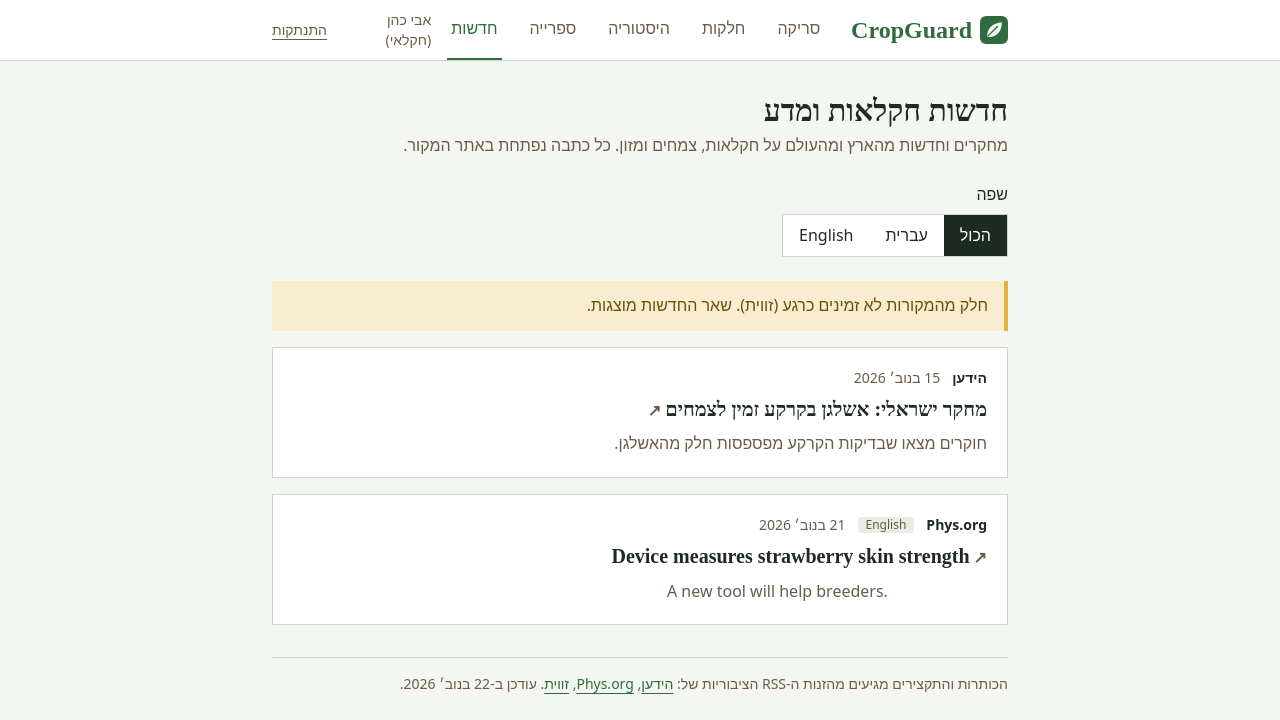
Test: news page › filters by language
Check: the list named "כתבות" is shown, box [272,347,1008,625]
Click the radio button labelled "עברית": (907, 235) [886,224,928,246]
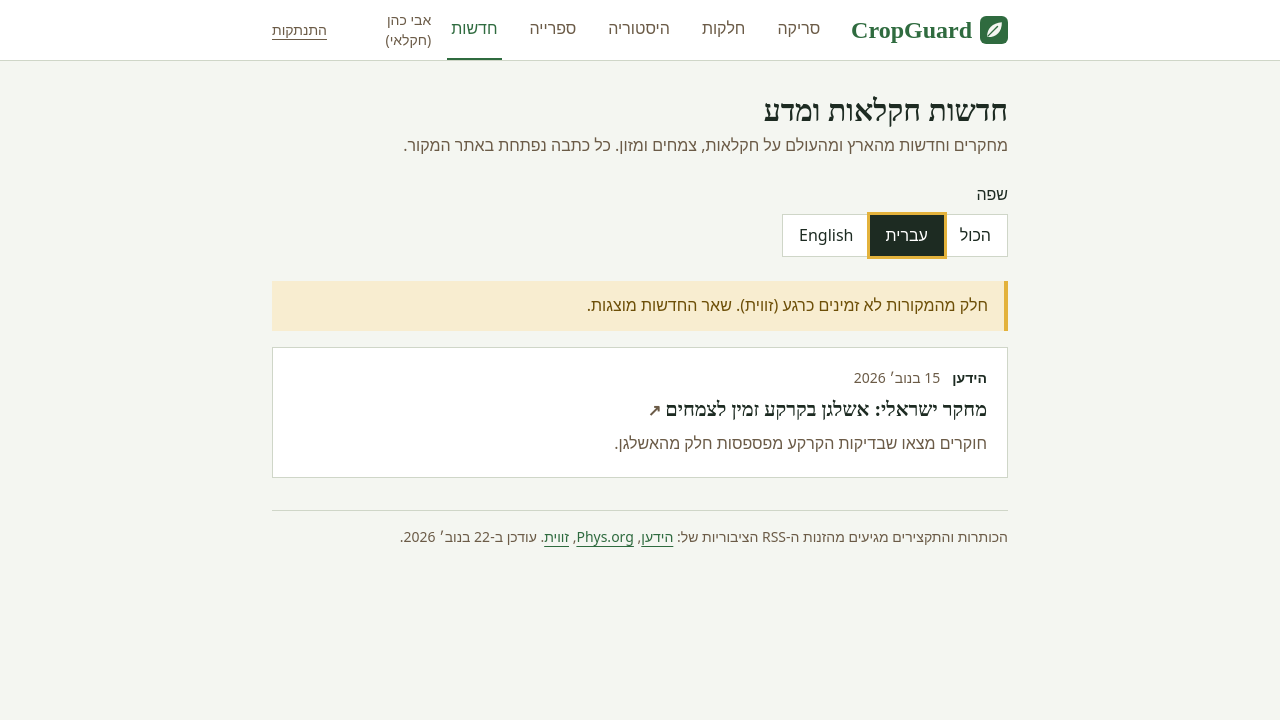
Check: the link "מחקר ישראלי: אשלגן בקרקע זמין לצמחים↗" is shown, box [648,398,987,420]
Click the radio button labelled "English": (826, 235) [799,224,854,246]
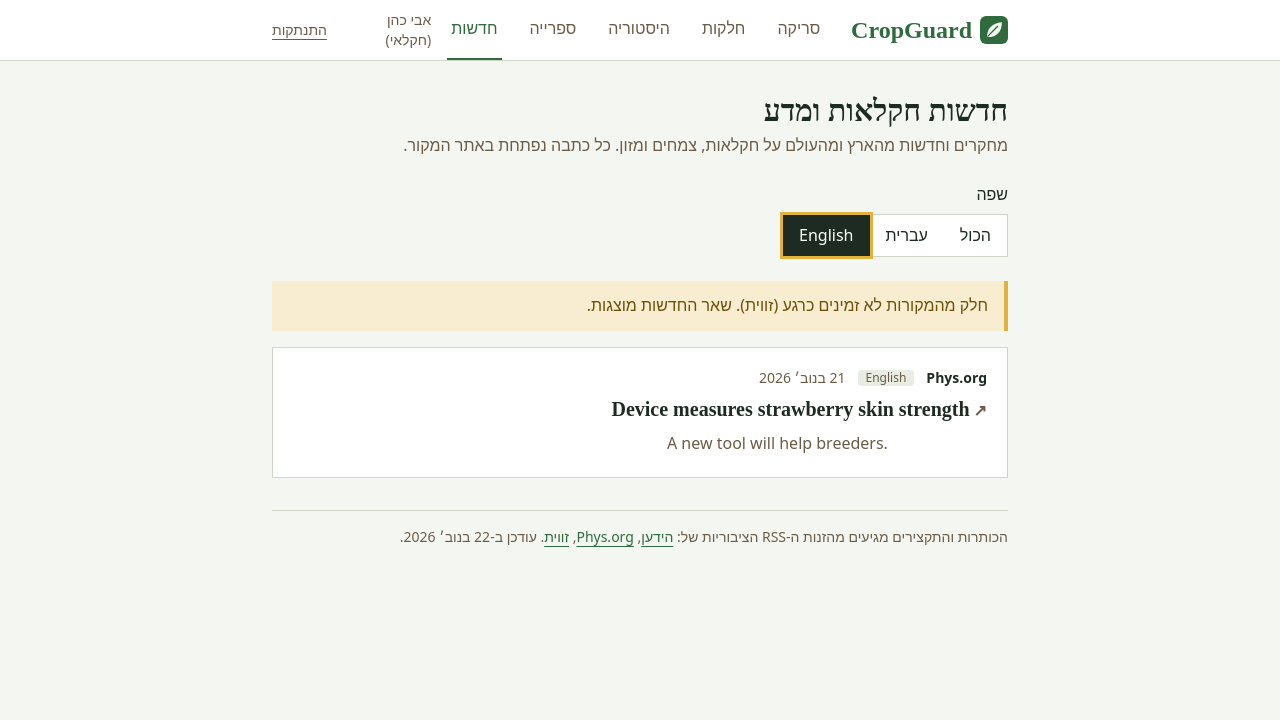
Check: the link "Device measures strawberry skin strength↗" is shown, box [612,398,987,420]
